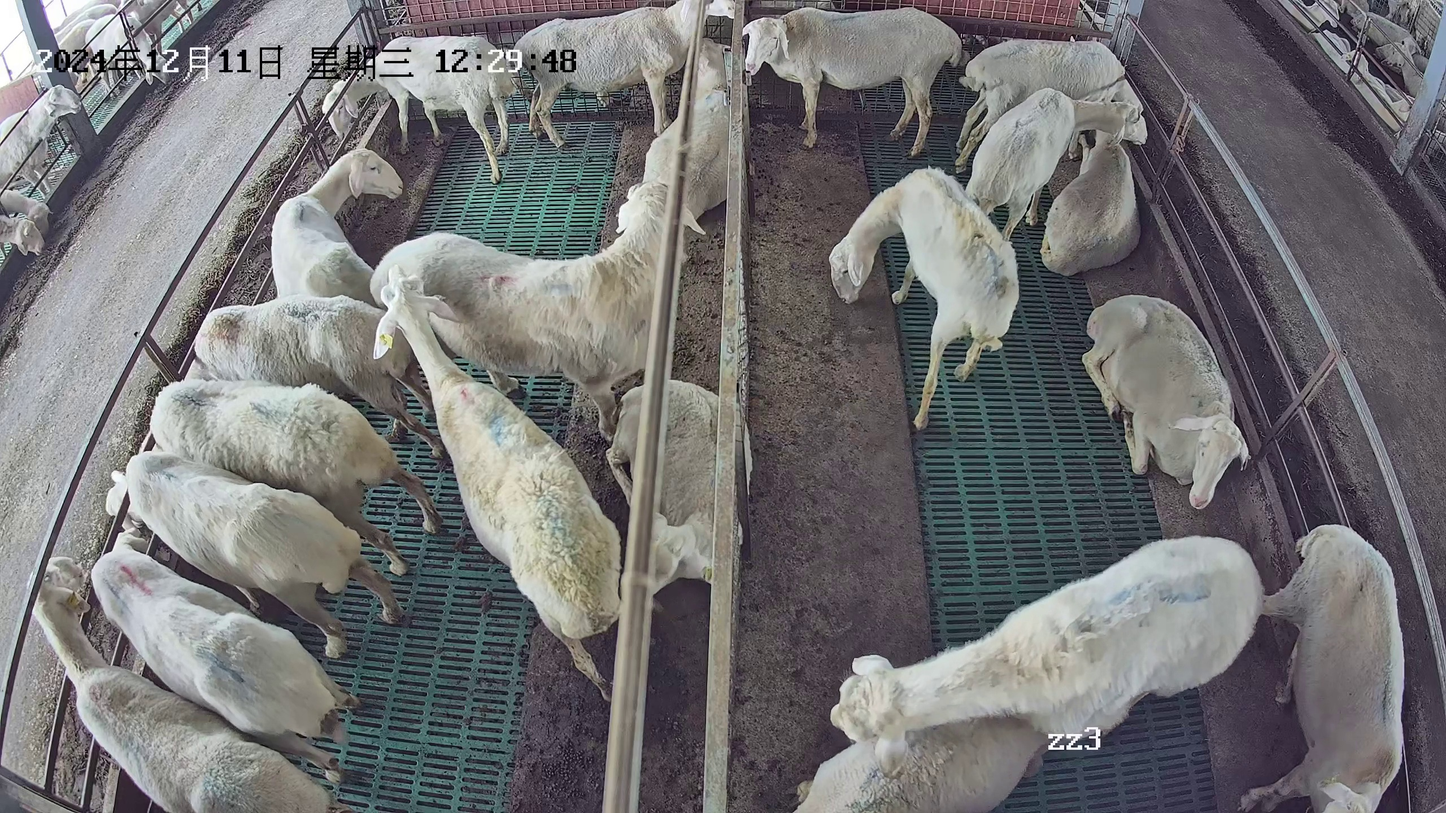Smounting: (787, 532, 1265, 813)
mounted: (790, 716, 1044, 813)
